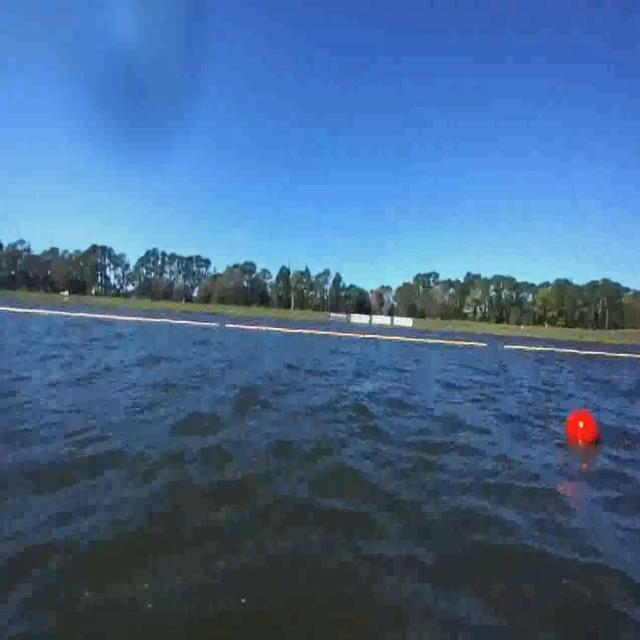red-buoy: (565, 409, 600, 448)
